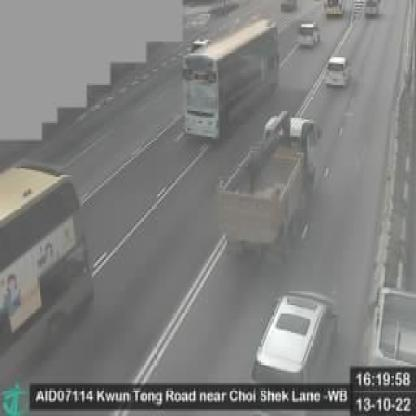Bus: (0, 162, 95, 404), (182, 20, 278, 142)
Car: (250, 288, 337, 381), (324, 53, 350, 88), (297, 20, 322, 51), (323, 0, 344, 16), (365, 0, 383, 17), (280, 1, 299, 12)
Truck: (220, 113, 317, 270)
